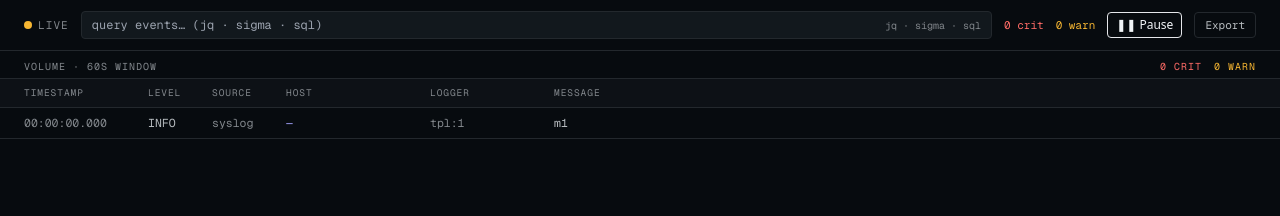
Test: EventStream › clicking pause halts visible appends, resume catches up
The image size is (1280, 216).
Expected: the text "m1" is shown, [554,115,568,130]
Click the button "❚❚ Pause" at {"x": 1145, "y": 25}, box [1107,12,1182,38]
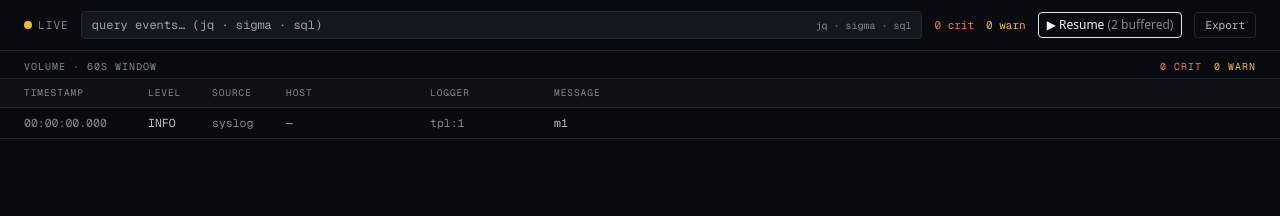
Expected: the text "m3" is not shown
Expected: the button "▶ Resume (2 buffered)" is shown
Click the button "▶ Resume (2 buffered)" at {"x": 1110, "y": 25}, box [1038,12,1182,38]
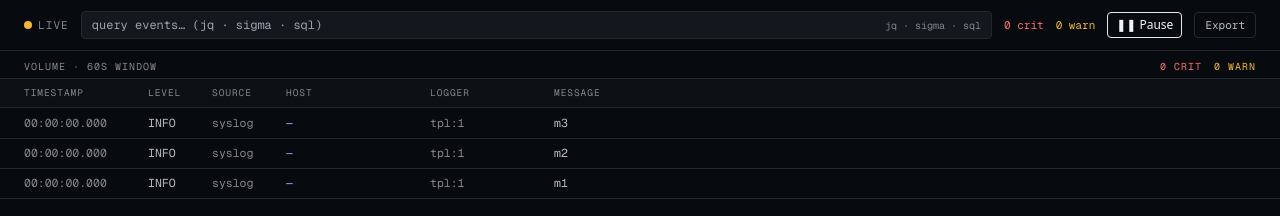
Expected: the text "m3" is shown, [554,115,568,130]
